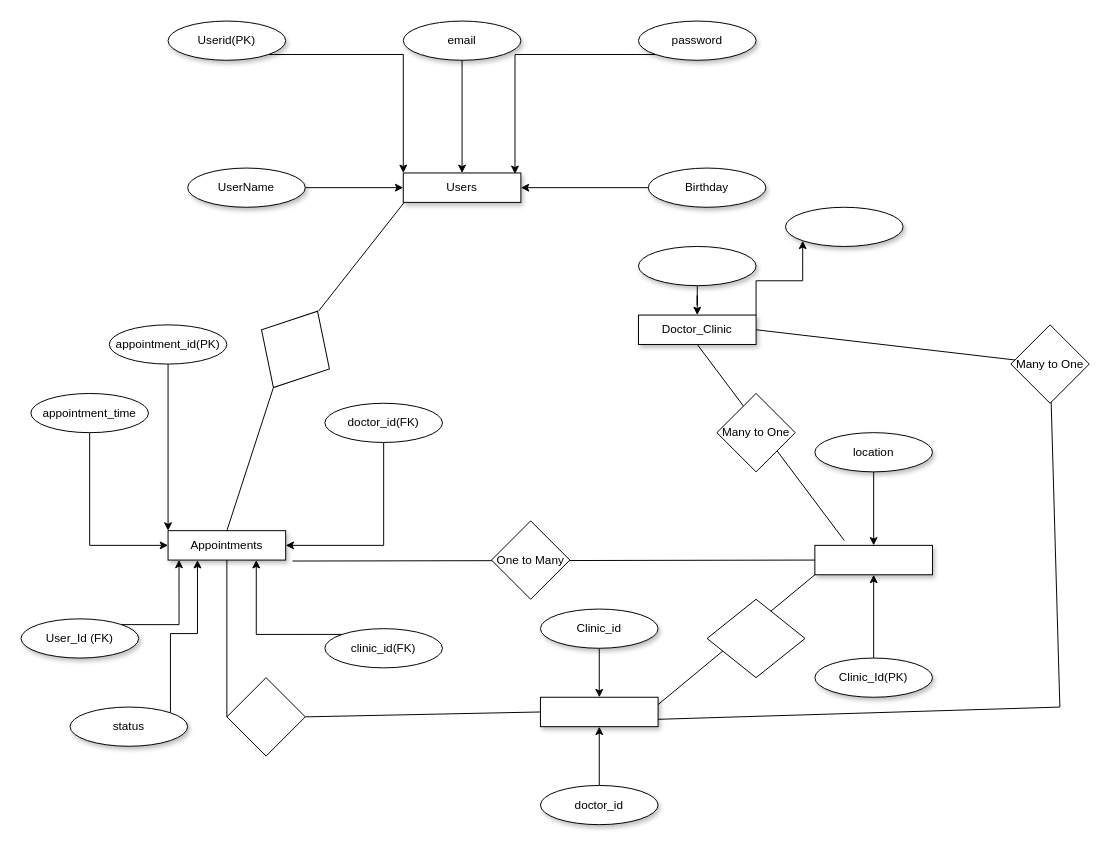
This 1106x849 diagram has some shape labels left out. Each missing label, with the centre of its shape:
"1 - Many" belongs at point 265,716.
"1-Many" belongs at point 295,348.
"Clinics" belongs at point 874,561.
"Doctor" belongs at point 600,713.
"doctor_id(PK)" belongs at point 698,267.
"Many to Many" belongs at point 755,638.
"specialization" belongs at point 845,227.
